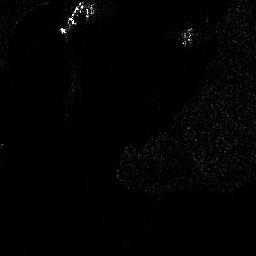ship: (59, 1, 86, 36)
